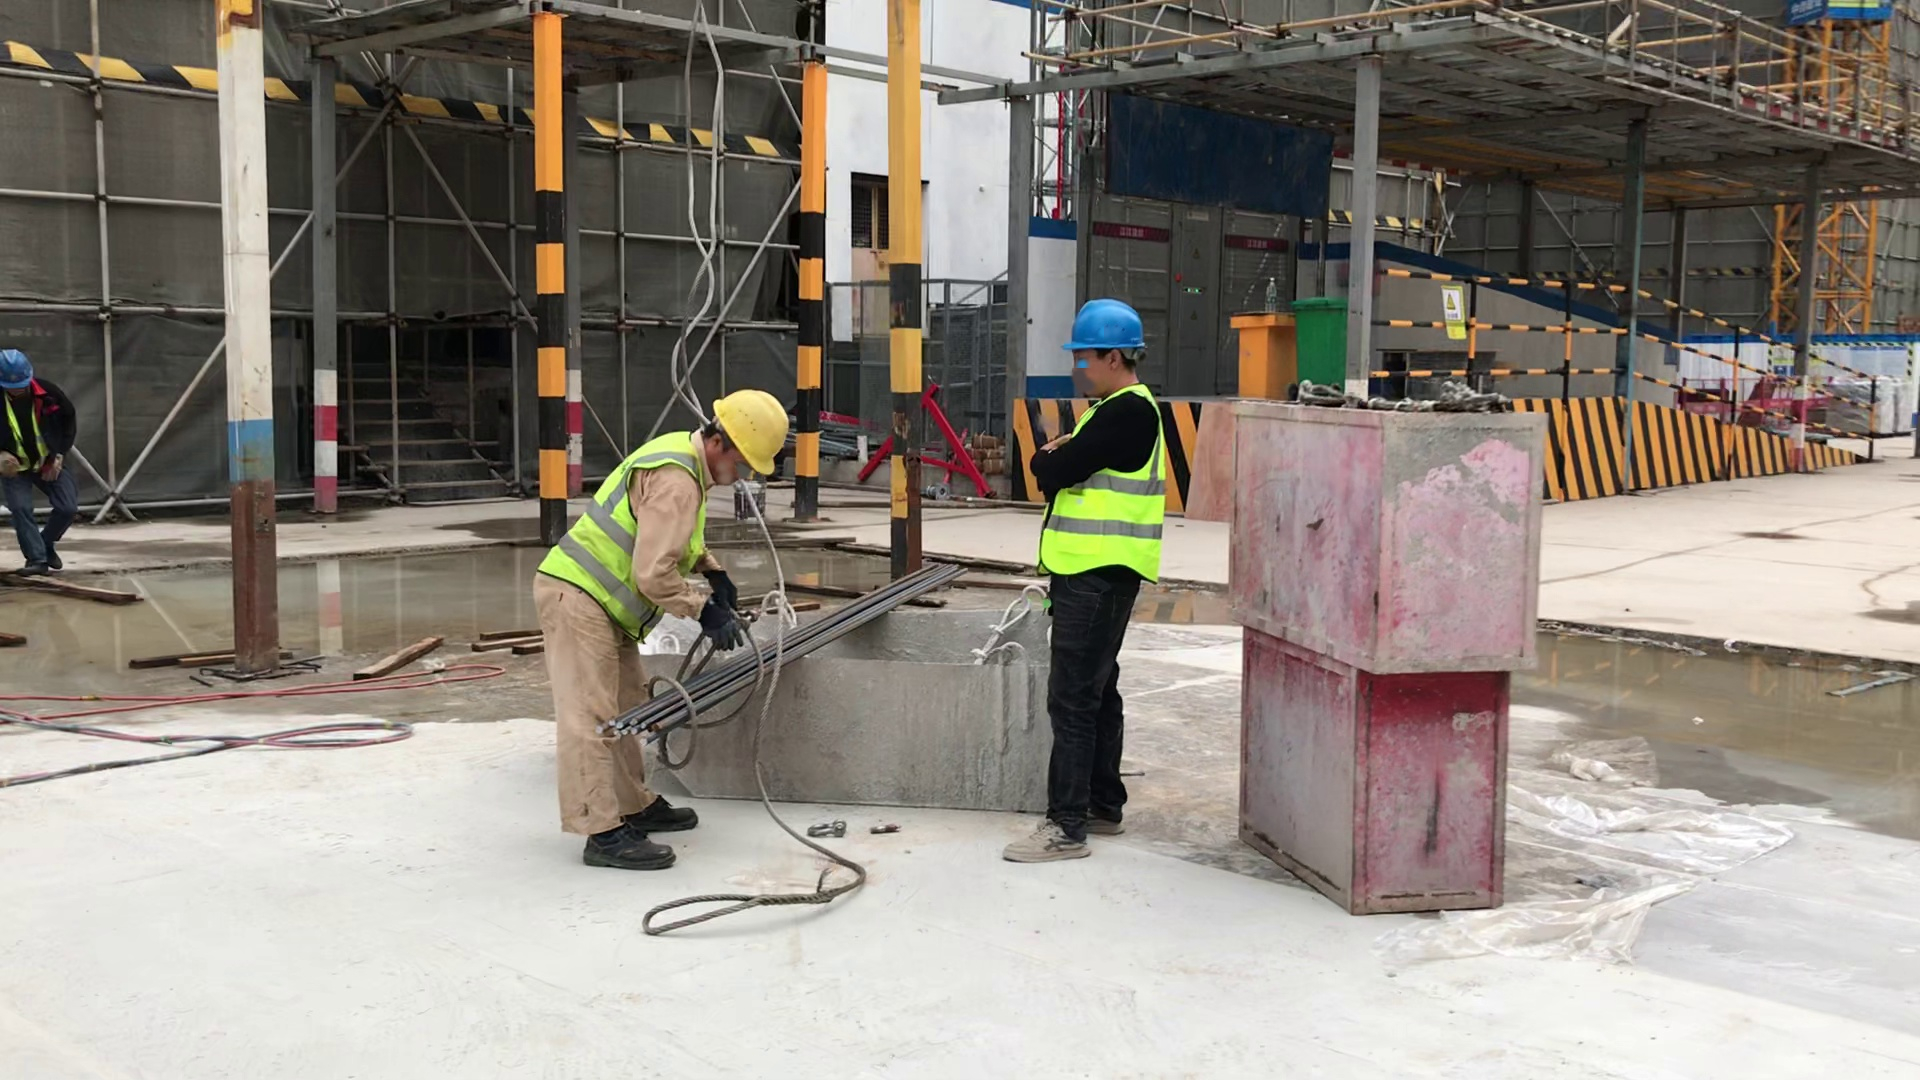fence: (1364, 261, 1894, 462)
helmet: (705, 368, 794, 491), (1066, 293, 1150, 368), (1, 339, 44, 399)
hopper: (630, 592, 1065, 826)
person: (525, 360, 801, 888), (1001, 284, 1170, 892), (1, 320, 100, 611)
rebar: (600, 603, 887, 762)
slogan: (1783, 1, 1900, 41), (1427, 285, 1476, 351)
vest: (522, 424, 716, 651), (1026, 378, 1191, 597), (5, 391, 67, 488)
